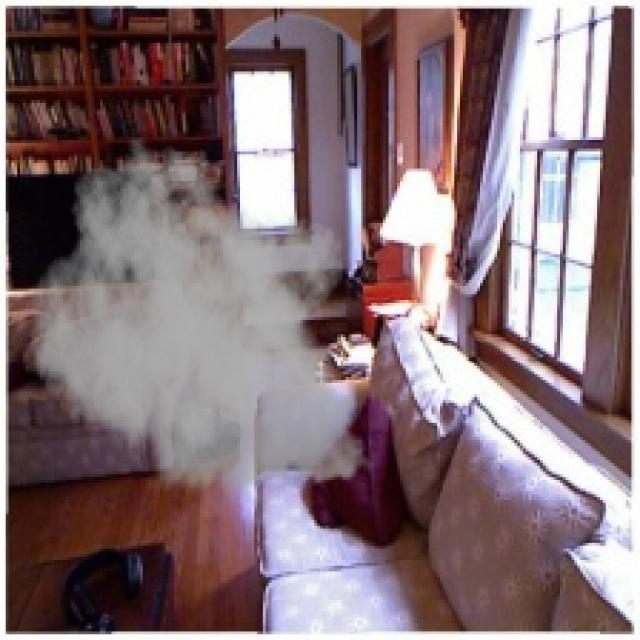Smoke: (28, 134, 380, 506)
